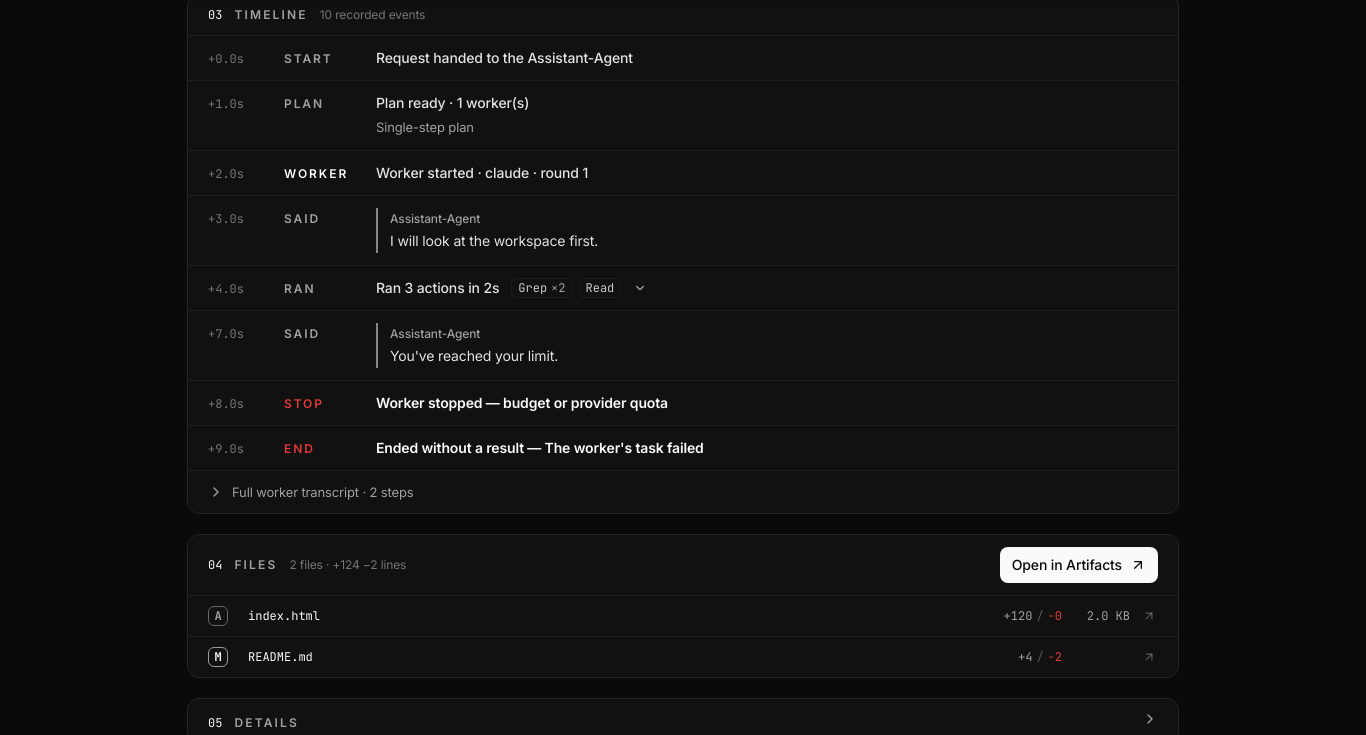
Test: AgentInsight › keeps the worker transcript folded away under the timeline
(page scrolled)
Click the button "Full worker transcript · 2 steps": (323,492) [188,470,1178,512]
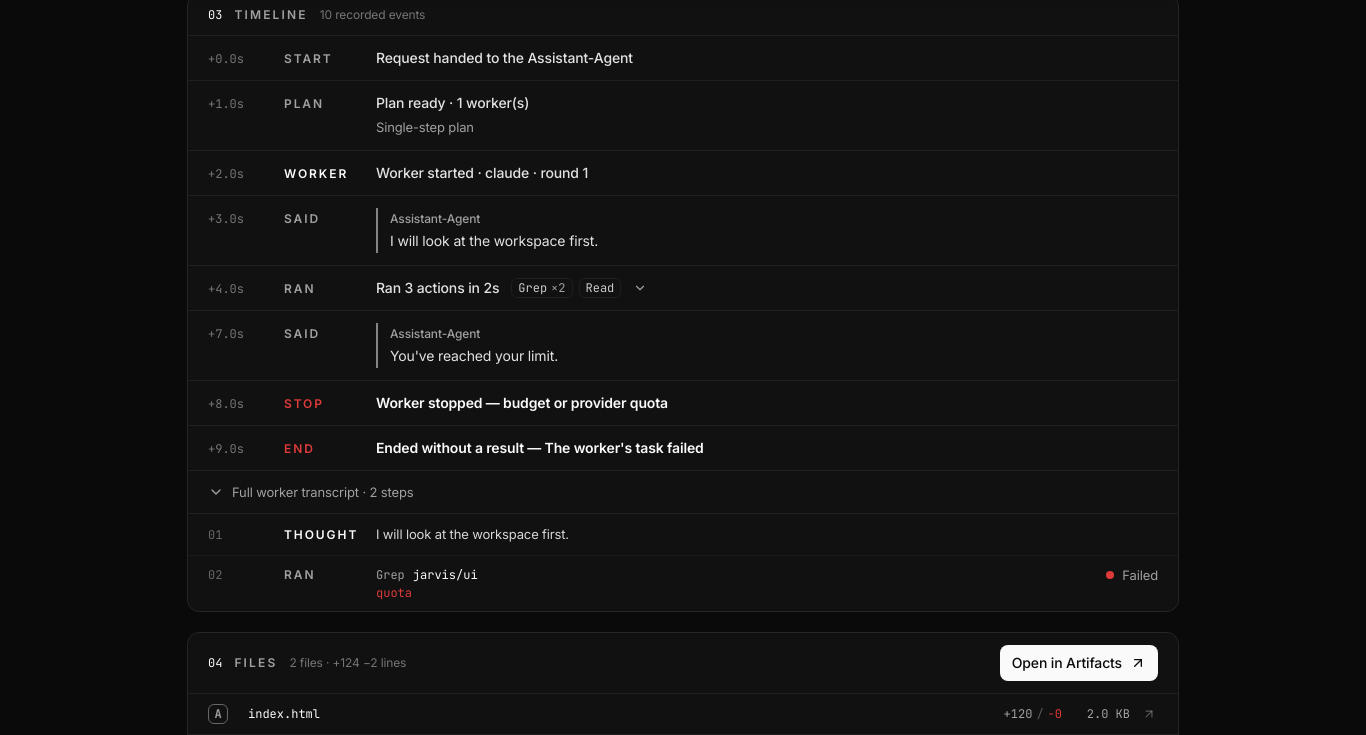
Expected: the text "quota" is shown, [376,585,412,601]
Expected: the text "Thought" is shown, [284,526,360,542]
